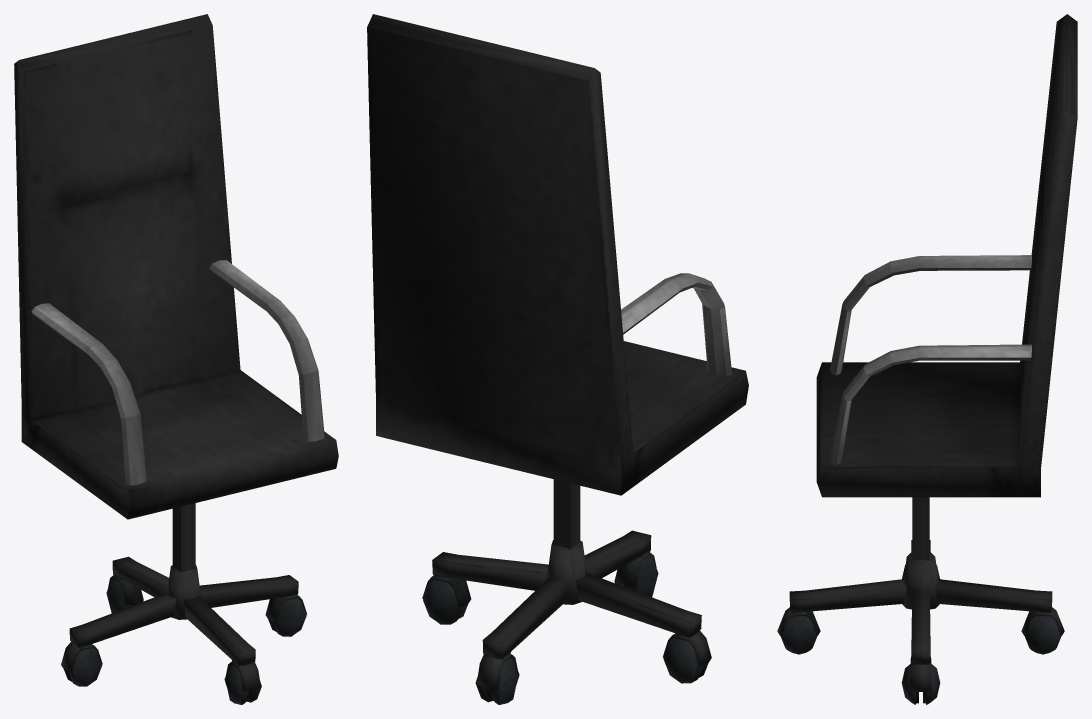
File: MESH_CADEIRA.fbx
3 renders of one model, left to right at view 1: azimuth 30°, elevation 25°; view 2: azimuth 150°, elevation 25°; view 3: azimuth 270°, elevation 25°, orthographic. The views are drawn at different scales.
Visible parts, largest first — view 1: MESH_CADEIRA; view 2: MESH_CADEIRA; view 3: MESH_CADEIRA.
Boxes of the visible parts, x1,y1,x2,y2 form: MESH_CADEIRA: [14, 14, 338, 704]; MESH_CADEIRA: [367, 14, 748, 704]; MESH_CADEIRA: [777, 14, 1077, 704].
Size of the model in its own units: 0.5742 by 1.3 by 0.6.
